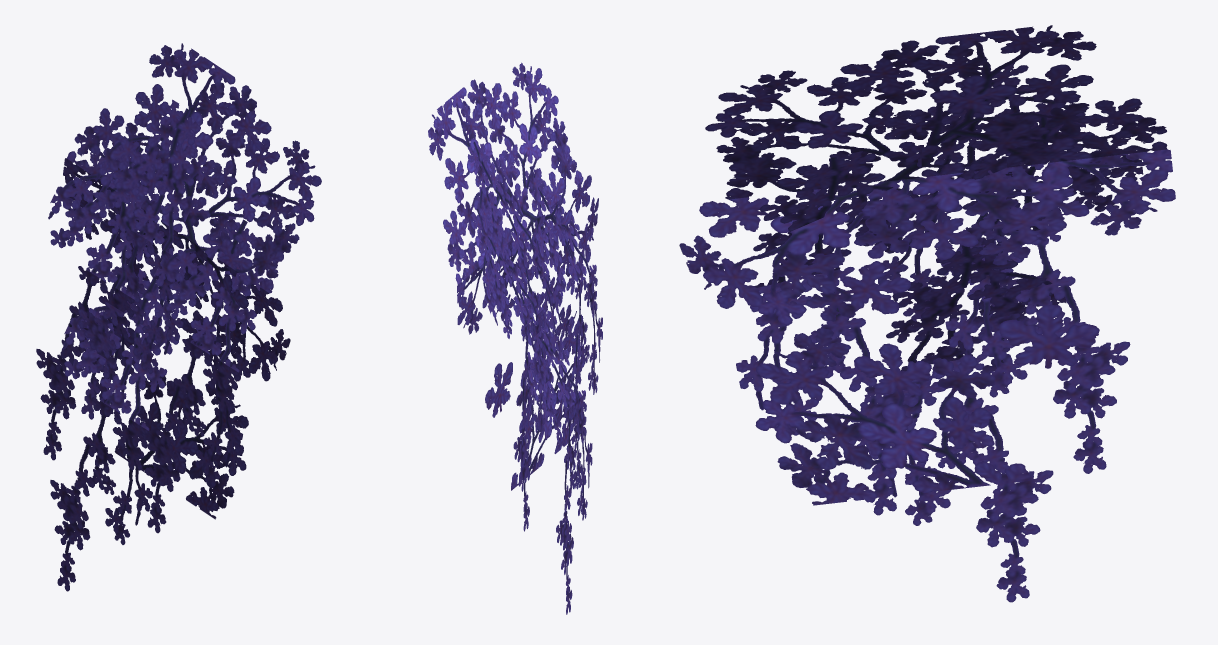
The model's file is ivy3.fbx.
The picture shows the model from 3 angles, left to right: view 1: azimuth 30°, elevation 25°; view 2: azimuth 150°, elevation 25°; view 3: azimuth 270°, elevation 25°; orthographic projection. The views are drawn at different scales.
Visible parts, largest first — view 1: IVY3; view 2: IVY3; view 3: IVY3.
Part boxes in pixels (x1,y1,x2,y2): IVY3: (36, 43, 321, 591); IVY3: (428, 62, 602, 614); IVY3: (679, 25, 1175, 602).
Size of the model in its own units: 32.03 by 90.83 by 68.63.
